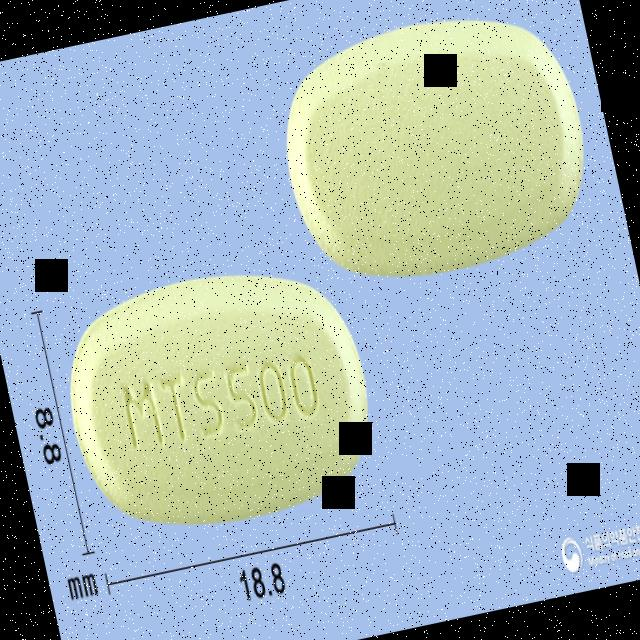Clarimacin: (42, 246, 394, 556)
